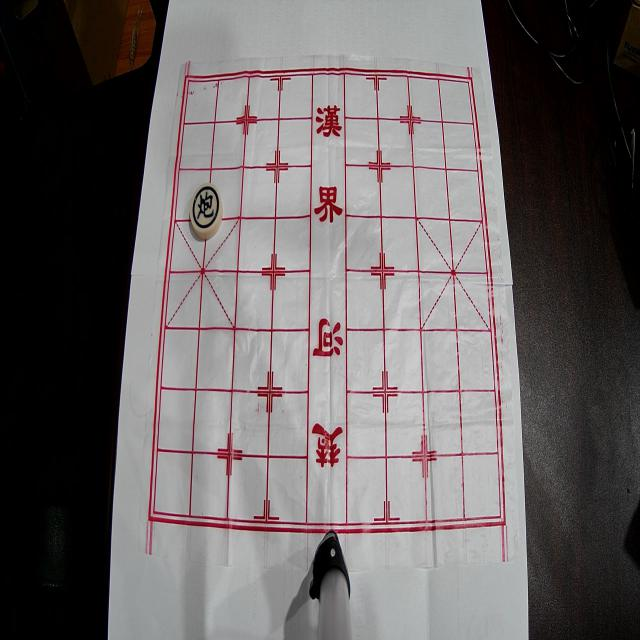black-cannon: (190, 183, 222, 239)
